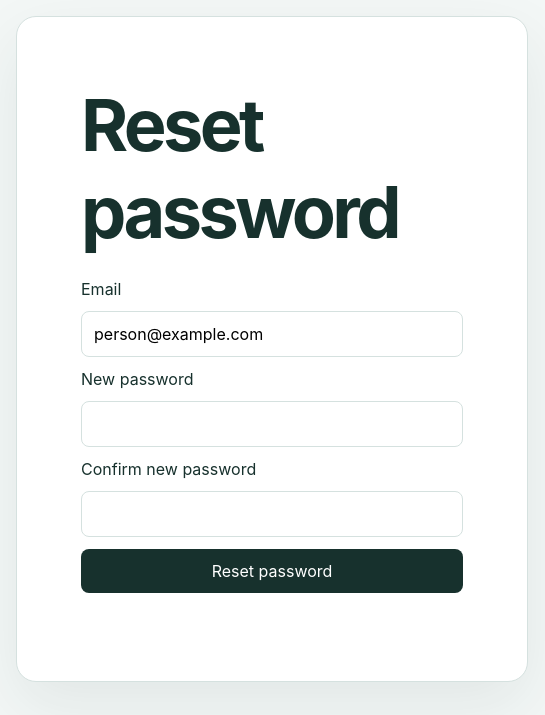
Test: Identity pages › extracts the reset query and shows successful reset behaviour
Expected: the field showing "person@example.com" is shown, [81, 311, 463, 357]
Step 1. Type "replacement-password" into the password field labelled "New password" → (272, 424), box [81, 401, 463, 447]
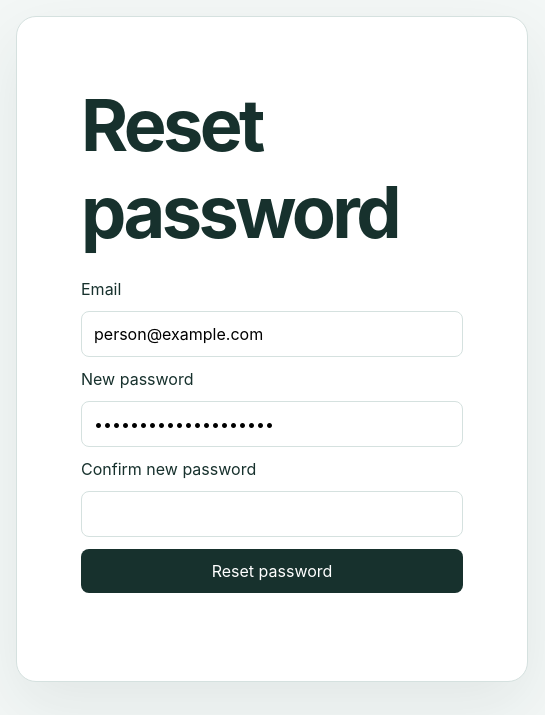
Step 2. Type "replacement-password" into the password field labelled "Confirm new password" → (272, 514), box [81, 491, 463, 537]
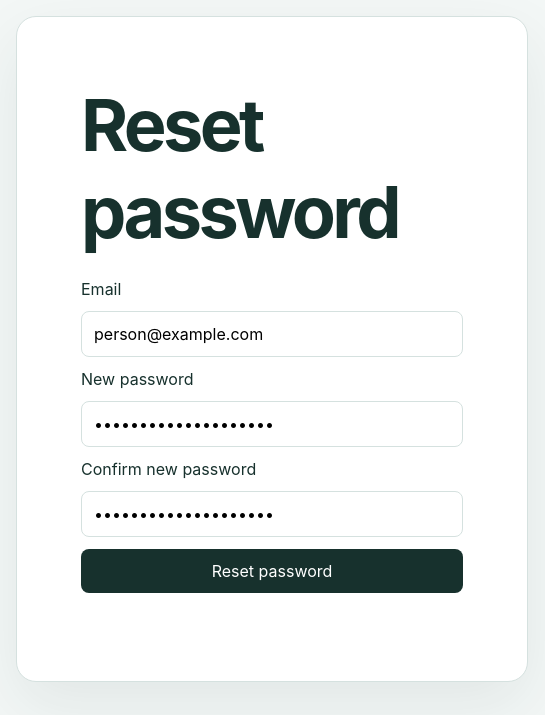
Step 3. Click the button "Reset password" → click(272, 571), box [81, 549, 463, 593]
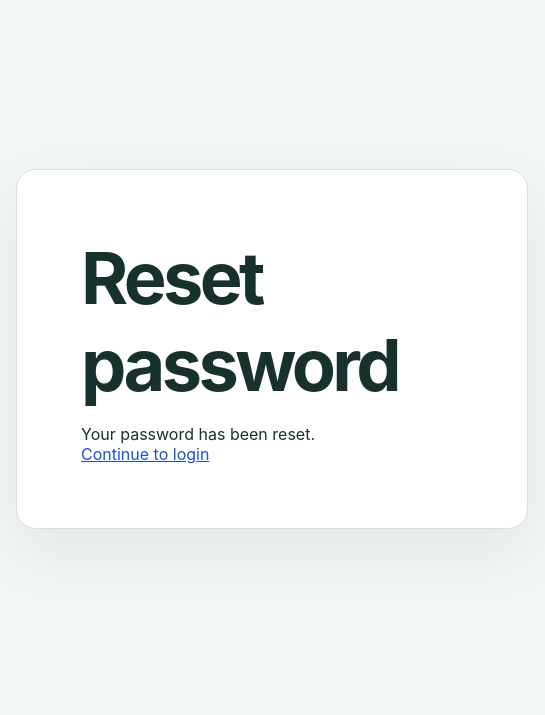
Now the text "Your password has been reset." is shown, box [81, 424, 315, 444]
